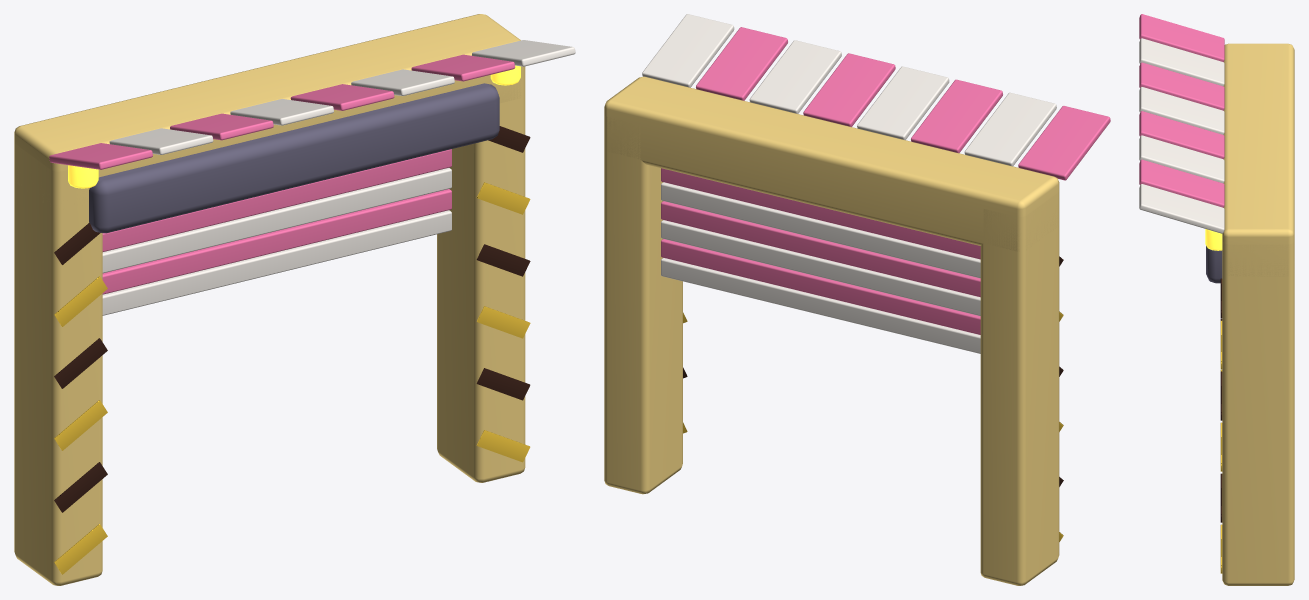
Rendered from candy_door.glb.
3 renders of one model, left to right at view 1: azimuth 30°, elevation 25°; view 2: azimuth 150°, elevation 25°; view 3: azimuth 270°, elevation 25°, orthographic. The views are drawn at different scales.
Parts seen in each view (by area): view 1: Door; view 2: Door; view 3: Door.
Boxes of the visible parts, box(x1,y1,x2,y2) form: Door: box(14, 14, 575, 585); Door: box(604, 14, 1110, 585); Door: box(1139, 14, 1294, 585).
Bounding box in the file's own units: 5.68 × 5.25 × 1.93.
